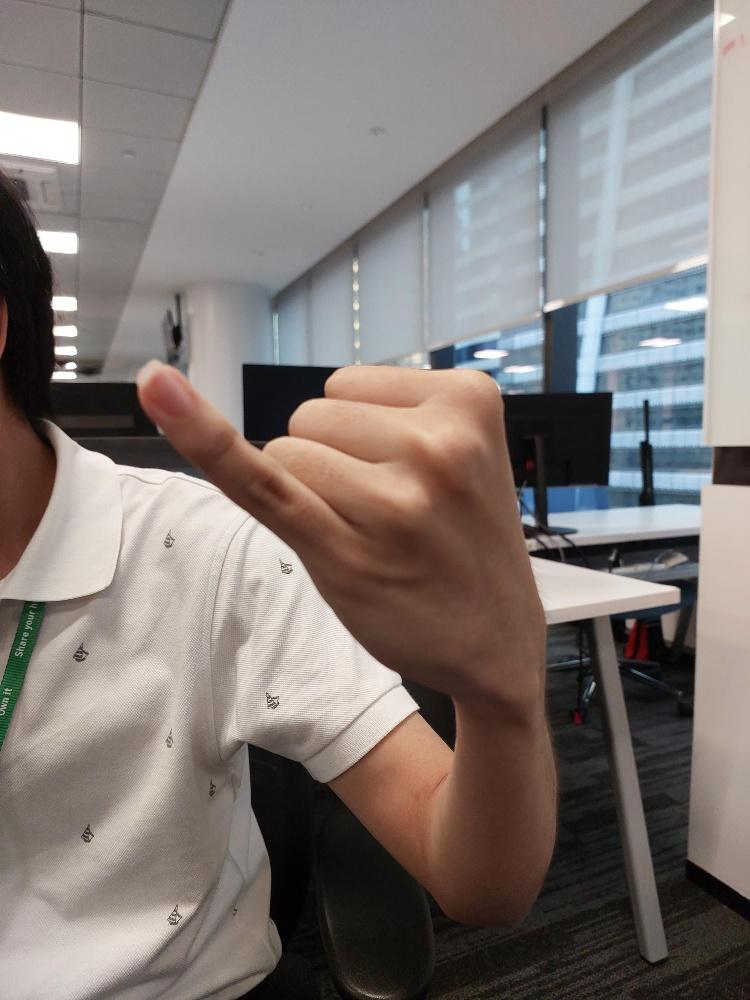j: (134, 354, 549, 684)
